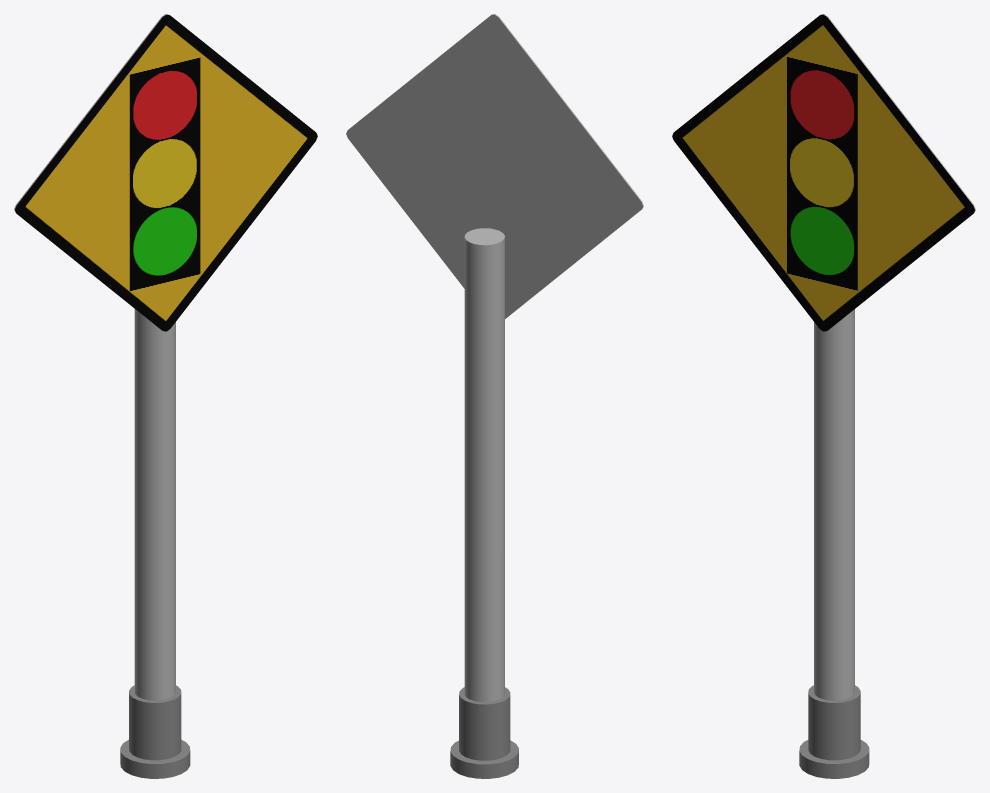
The model's file is Traffic_Light_Sign.fbx.
3 renders of one model, left to right at view 1: azimuth 30°, elevation 25°; view 2: azimuth 150°, elevation 25°; view 3: azimuth 330°, elevation 25°, orthographic. The views are drawn at different scales.
Visible parts, largest first — view 1: polySurface71; view 2: polySurface71; view 3: polySurface71.
Part boxes in pixels (left/top/right/bottom): polySurface71: left=14, top=14, right=317, bottom=778; polySurface71: left=346, top=14, right=643, bottom=778; polySurface71: left=672, top=14, right=975, bottom=778.
Size of the model in its own units: 5.86 by 14 by 1.18.
